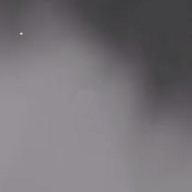Target: (19, 32, 24, 36)
